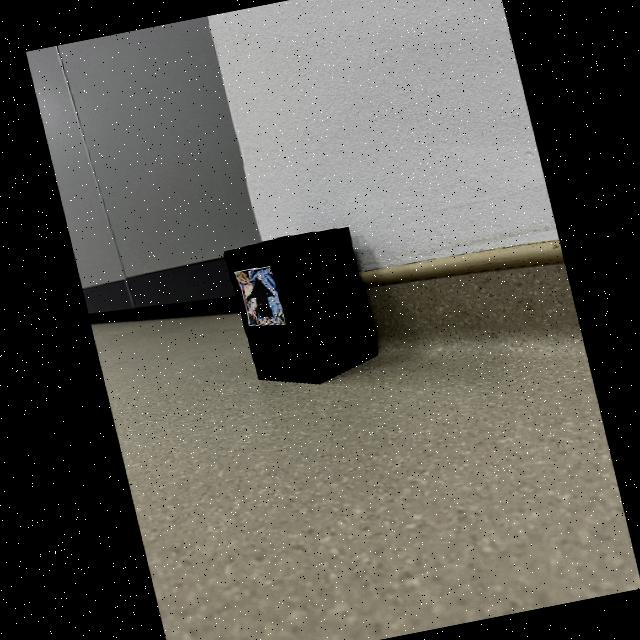UP: (246, 277, 273, 318)
